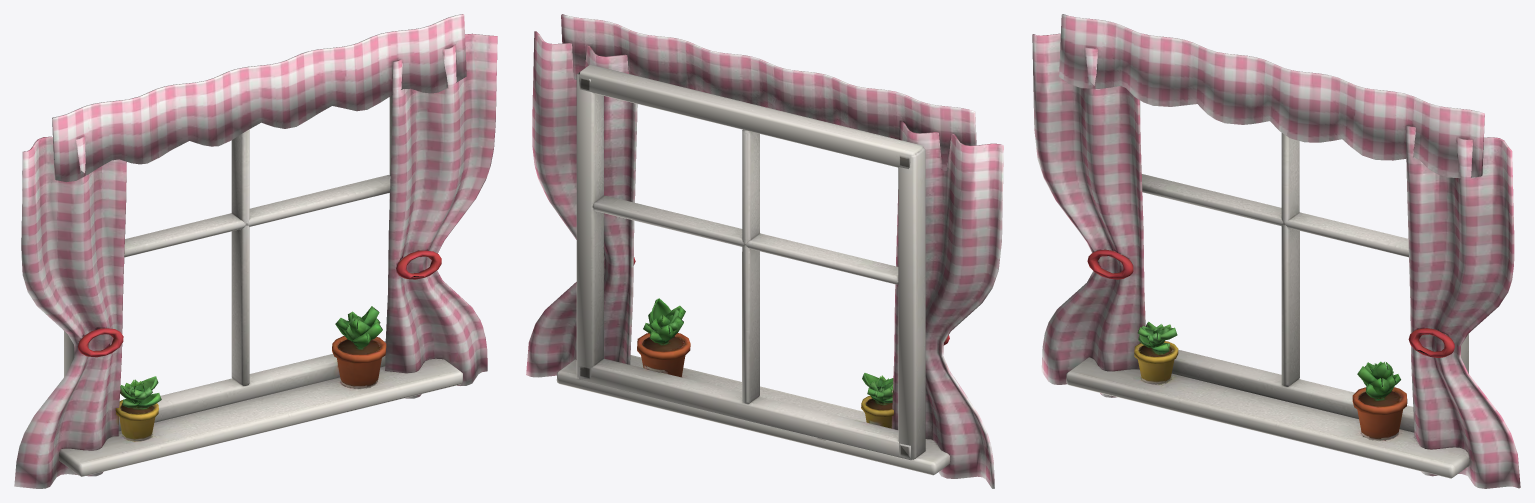
Rendered from window.glb.
3 renders of one model, left to right at view 1: azimuth 30°, elevation 25°; view 2: azimuth 150°, elevation 25°; view 3: azimuth 330°, elevation 25°, orthographic. The views are drawn at different scales.
Visible parts, largest first — view 1: window; view 2: window; view 3: window.
Boxes of the visible parts, bbox=[...] form: window: bbox=[14, 14, 497, 488]; window: bbox=[526, 14, 1003, 488]; window: bbox=[1032, 14, 1520, 488].
Size of the model in its own units: 6.42 by 4.75 by 0.8952.
Materials: 1 (1 with a texture image).
